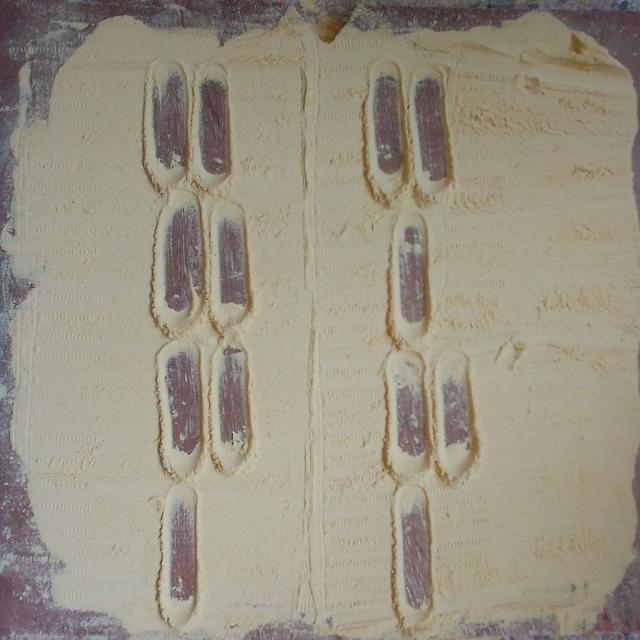double: (142, 59, 236, 174), (365, 65, 457, 180), (156, 212, 250, 312), (380, 363, 474, 462), (161, 347, 248, 452)
single: (156, 490, 208, 600), (392, 495, 436, 623), (390, 221, 434, 326)
